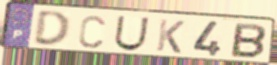4: (192, 20, 225, 58)
B: (229, 21, 269, 60)
C: (77, 13, 107, 49)
D: (32, 10, 72, 49)
K: (155, 18, 187, 55)
U: (112, 14, 151, 52)
